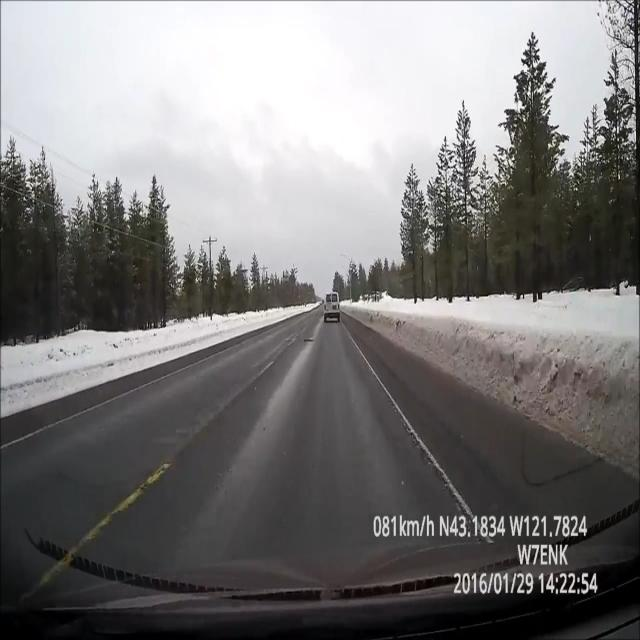Pothole: (300, 331, 316, 345)
